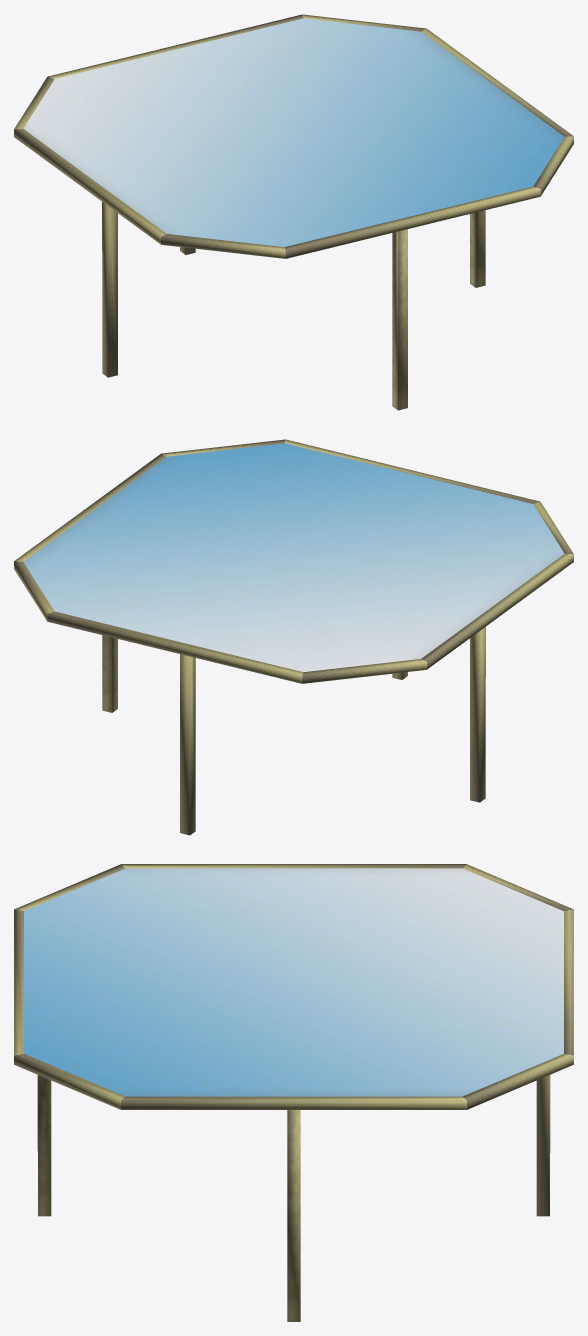
File: TRANS_UDC_TableGlass.obj
3 views of the same model, one above another, from view 1: azimuth 30°, elevation 25°; view 2: azimuth 150°, elevation 25°; view 3: azimuth 270°, elevation 25° (orthographic). The views are drawn at different scales.
Parts seen in each view (by area): view 1: TRANS_UDC_TableGlass; view 2: TRANS_UDC_TableGlass; view 3: TRANS_UDC_TableGlass.
Boxes of the visible parts, x1,y1,x2,y2 form: TRANS_UDC_TableGlass: (14, 14, 573, 410); TRANS_UDC_TableGlass: (14, 439, 573, 835); TRANS_UDC_TableGlass: (14, 864, 573, 1321).
Bounding box in the file's own units: 0.0545 × 0.0248 × 0.0545.
